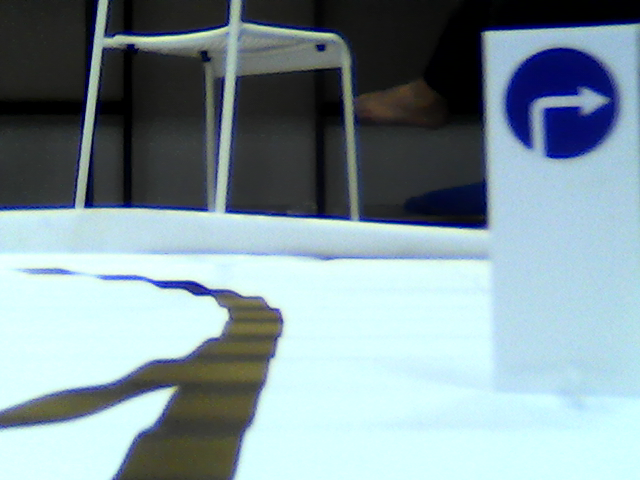Right: (503, 44, 620, 160)
